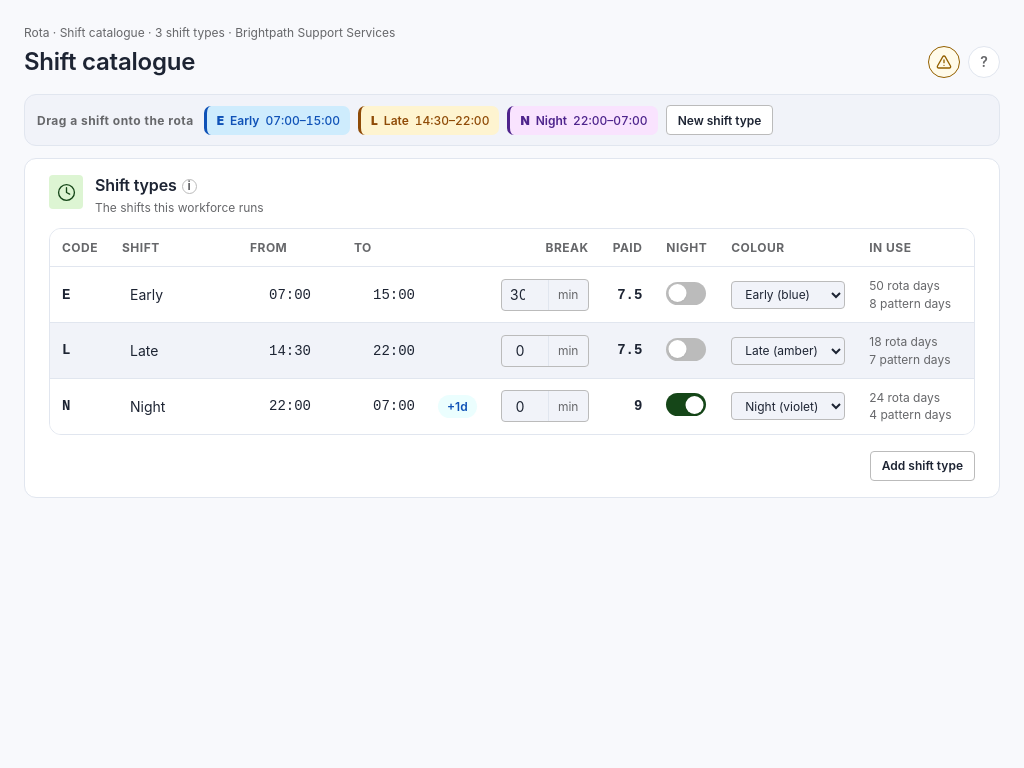
Shift catalogue › renders the palette and every shift type with its derived hours, midnight crossing and use, with full test id coverage
Click the button with test id "trota-new-shift" at (720, 120), box [666, 105, 773, 135]
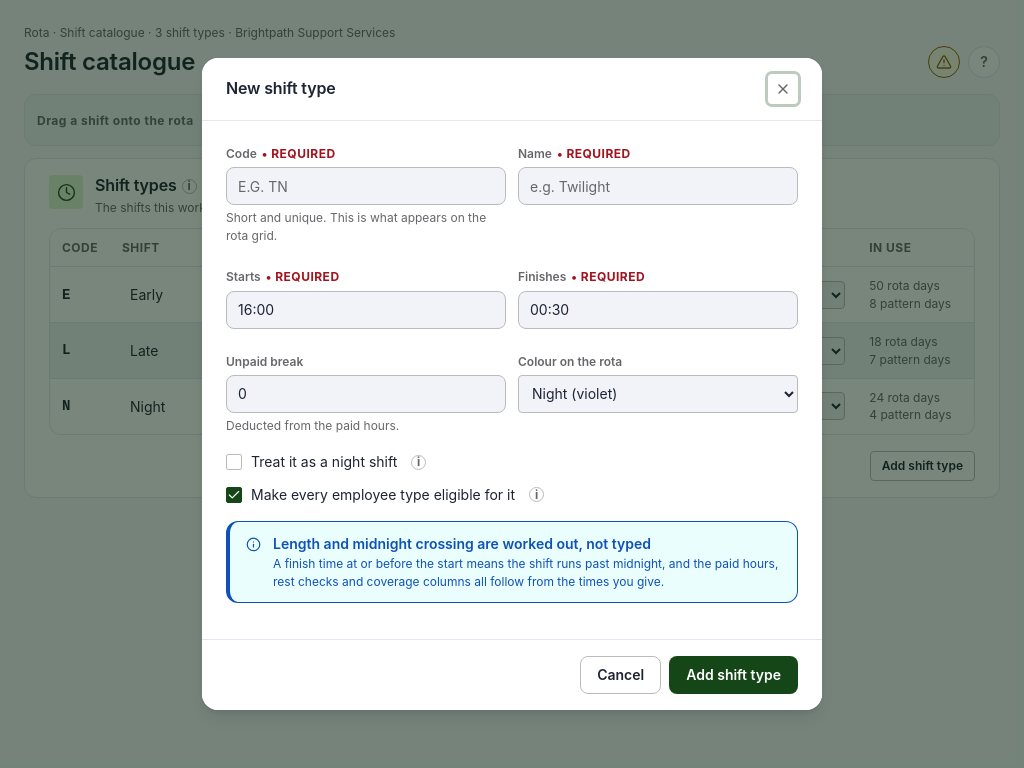
Check: the heading with test id "modal-title" reads "New shift type", box [226, 78, 336, 98]
